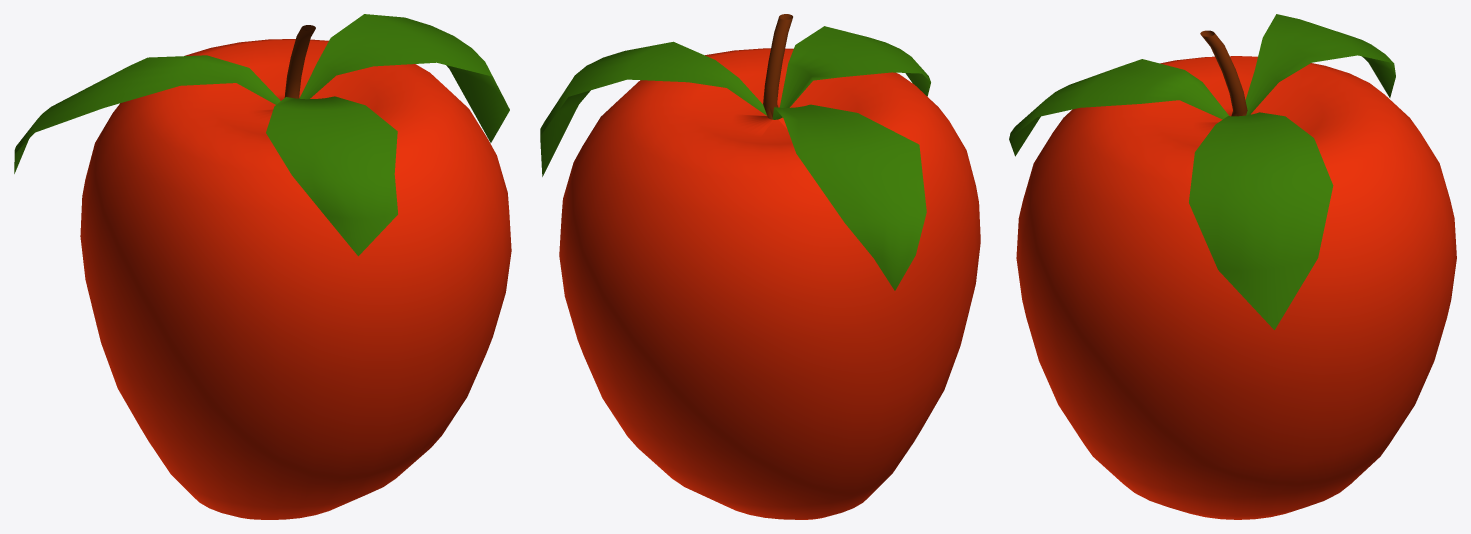
Rendered from FrutaWumpa.fbx.
3 renders of one model, left to right at view 1: azimuth 30°, elevation 25°; view 2: azimuth 150°, elevation 25°; view 3: azimuth 270°, elevation 25°, orthographic. The views are drawn at different scales.
Parts seen in each view (by area): view 1: Sphere; view 2: Sphere; view 3: Sphere.
Boxes of the visible parts, left/top/right/bottom form: Sphere: left=14, top=14, right=511, bottom=519; Sphere: left=540, top=14, right=980, bottom=519; Sphere: left=1009, top=14, right=1456, bottom=519.
Bounding box in the file's own units: 46.61 × 49.94 × 42.28.
